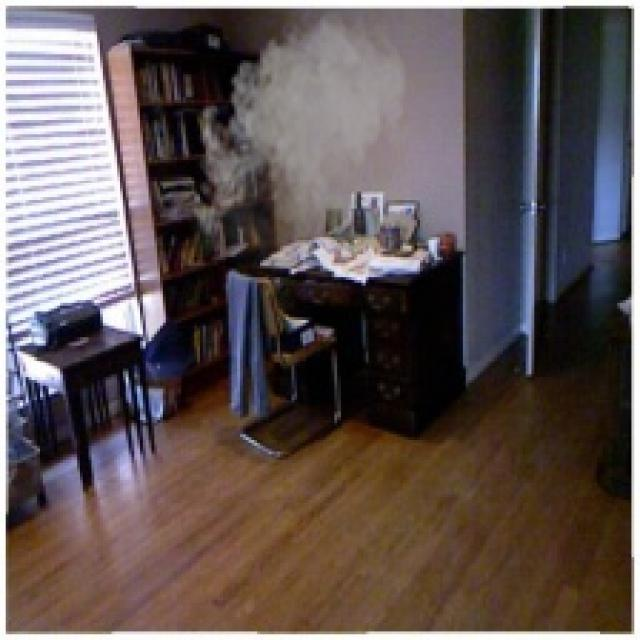smoke: (186, 3, 414, 268)
